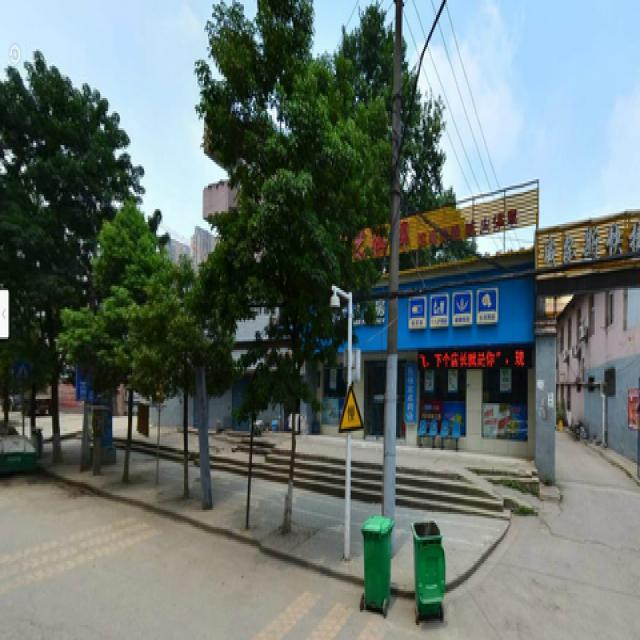cinn: (224, 28, 348, 533), (104, 190, 173, 484)
